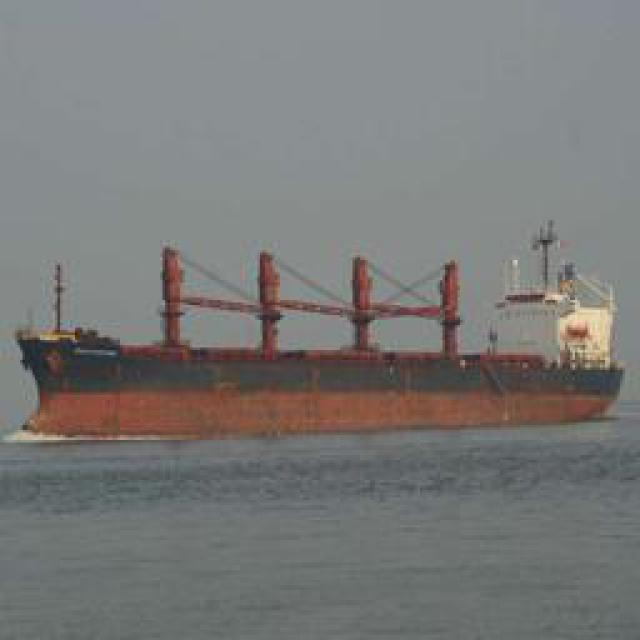Ship: (10, 230, 635, 454)
